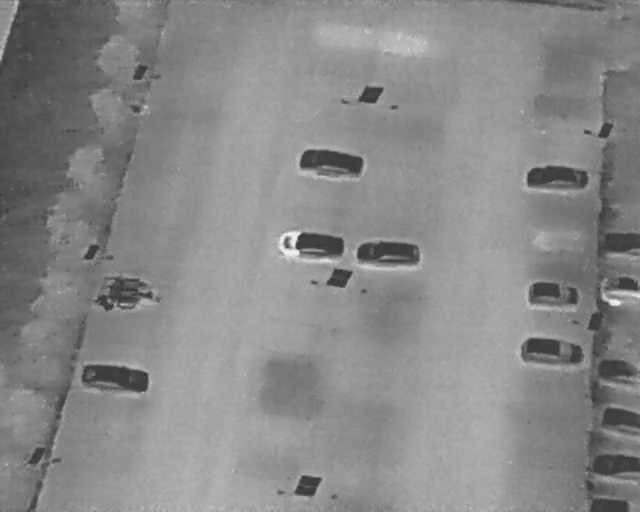Car: (80, 360, 150, 396), (297, 144, 365, 180), (518, 332, 584, 367), (278, 229, 345, 262), (523, 162, 590, 193), (356, 237, 421, 267), (592, 451, 640, 481), (528, 281, 580, 308), (599, 404, 640, 434), (603, 273, 640, 305), (602, 229, 640, 260), (597, 357, 640, 384), (589, 495, 637, 512)
